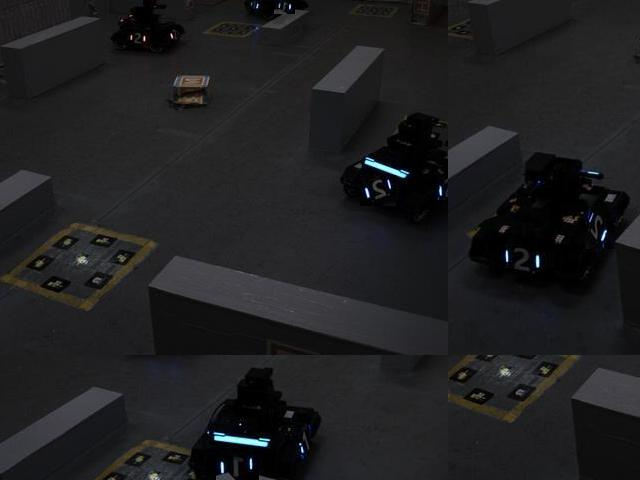armor: (498, 245, 545, 278), (216, 451, 261, 479), (586, 209, 615, 251), (360, 176, 397, 208), (295, 426, 316, 462), (125, 29, 150, 49), (432, 173, 447, 202), (274, 0, 298, 16), (246, 0, 262, 15), (167, 28, 182, 44)
